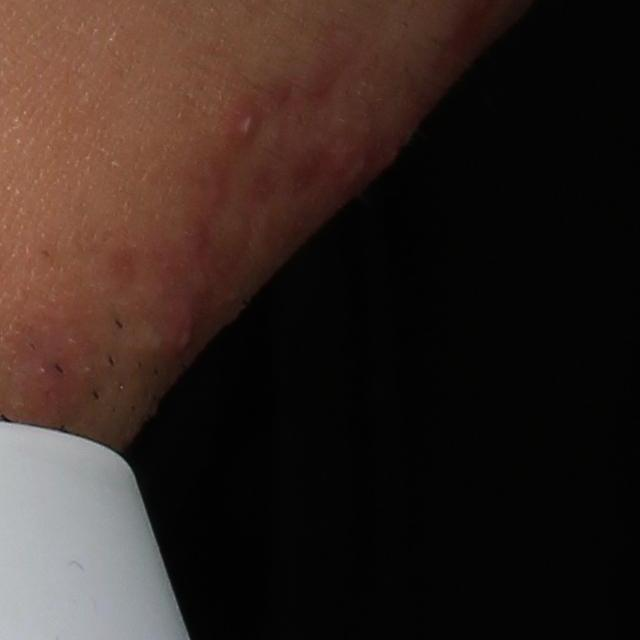pustule: (229, 101, 269, 145)
